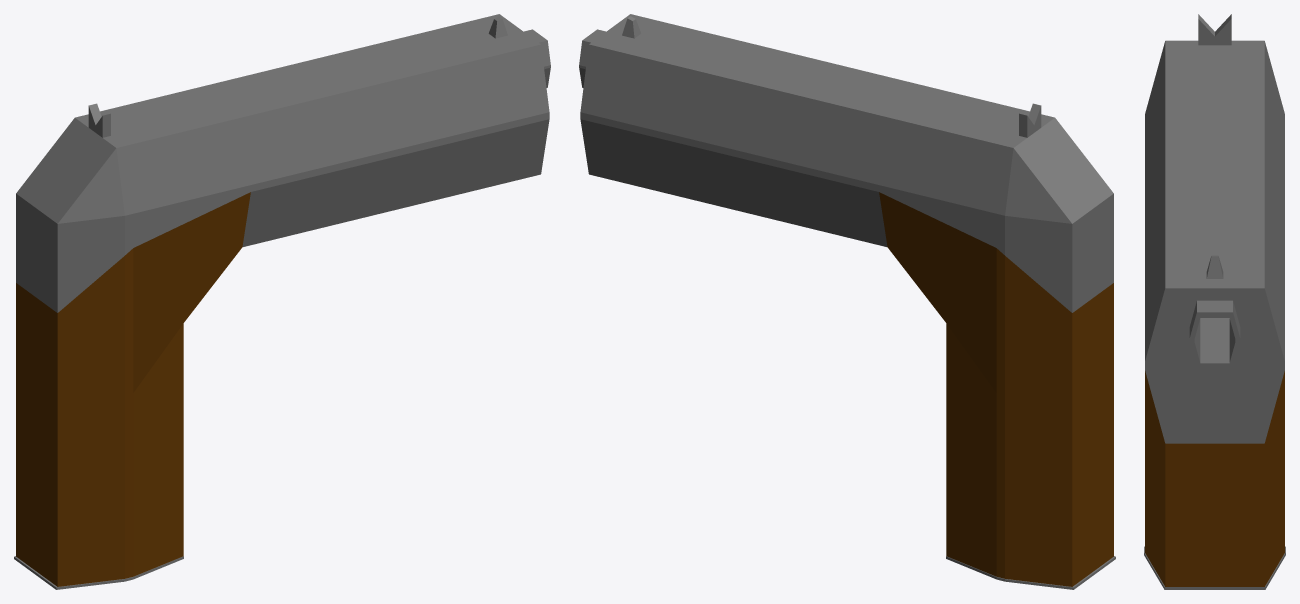
The model's file is pistol.glb.
3 views of the same model, side by side, from view 1: azimuth 30°, elevation 25°; view 2: azimuth 150°, elevation 25°; view 3: azimuth 270°, elevation 25° (orthographic). The views are drawn at different scales.
Visible parts, largest first — view 1: empunhadura, ferrolho, corpo, mira; view 2: empunhadura, ferrolho, corpo, mira; view 3: ferrolho, empunhadura, corpo, mira, cartucho.
Part boxes in pixels (x1,y1,x2,y2): empunhadura: (16, 192, 250, 586); ferrolho: (16, 14, 549, 223); corpo: (16, 29, 550, 312); mira: (88, 16, 507, 137); empunhadura: (879, 192, 1113, 586); ferrolho: (580, 14, 1113, 223); corpo: (579, 29, 1113, 312); mira: (622, 16, 1041, 137); ferrolho: (1145, 40, 1284, 361); empunhadura: (1145, 371, 1284, 586); corpo: (1145, 300, 1284, 443); mira: (1198, 14, 1231, 278); cartucho: (1144, 546, 1285, 589).
Size of the model in its own units: 0.2489 by 0.2115 by 0.0507.
